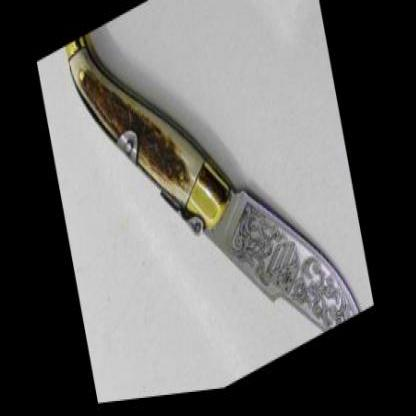knife: (193, 122, 372, 390)
